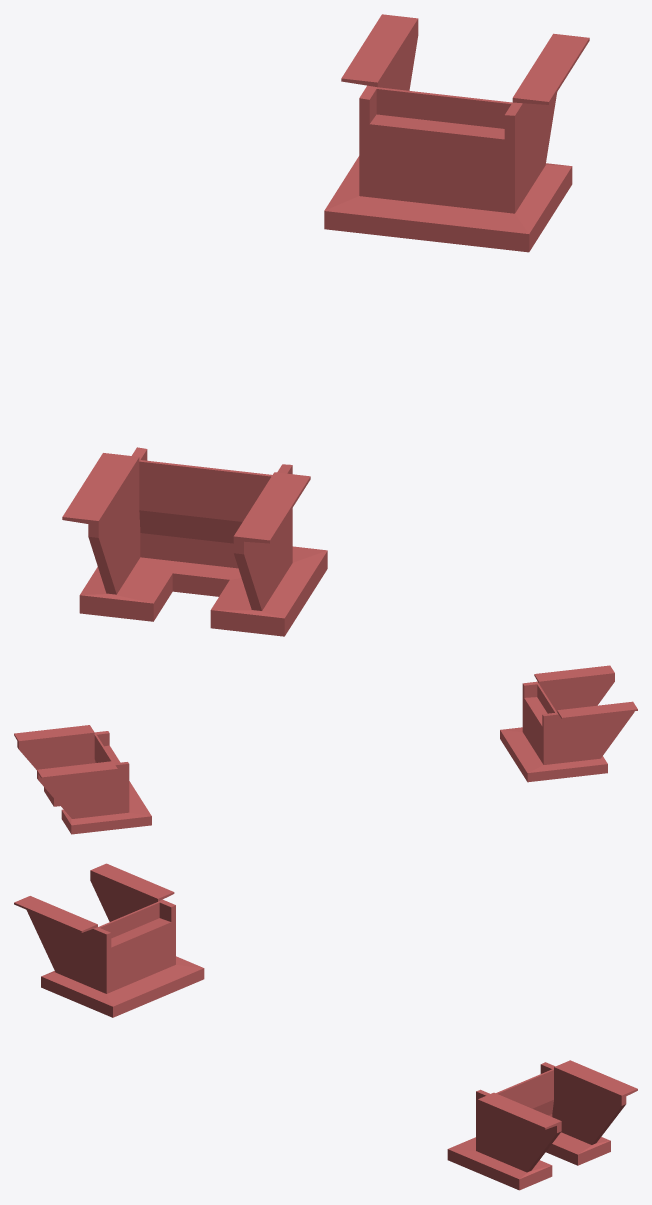
The model's file is bridge3_abutments.obj.
3 renders of one model, top to bottom at view 1: azimuth 30°, elevation 25°; view 2: azimuth 150°, elevation 25°; view 3: azimuth 270°, elevation 25°, orthographic. The views are drawn at different scales.
Visible parts, largest first — view 1: mesh_1, mesh_0; view 2: mesh_0, mesh_1; view 3: mesh_0, mesh_1.
Boxes of the visible parts, x1=… form: mesh_1: x1=324, y1=14, x2=589, y2=252; mesh_0: x1=62, y1=447, x2=327, y2=636; mesh_0: x1=500, y1=665, x2=637, y2=782; mesh_1: x1=14, y1=725, x2=151, y2=834; mesh_0: x1=14, y1=863, x2=204, y2=1017; mesh_1: x1=447, y1=1060, x2=637, y2=1190.
Size of the model in its own units: 76.29 by 10.08 by 76.28.
